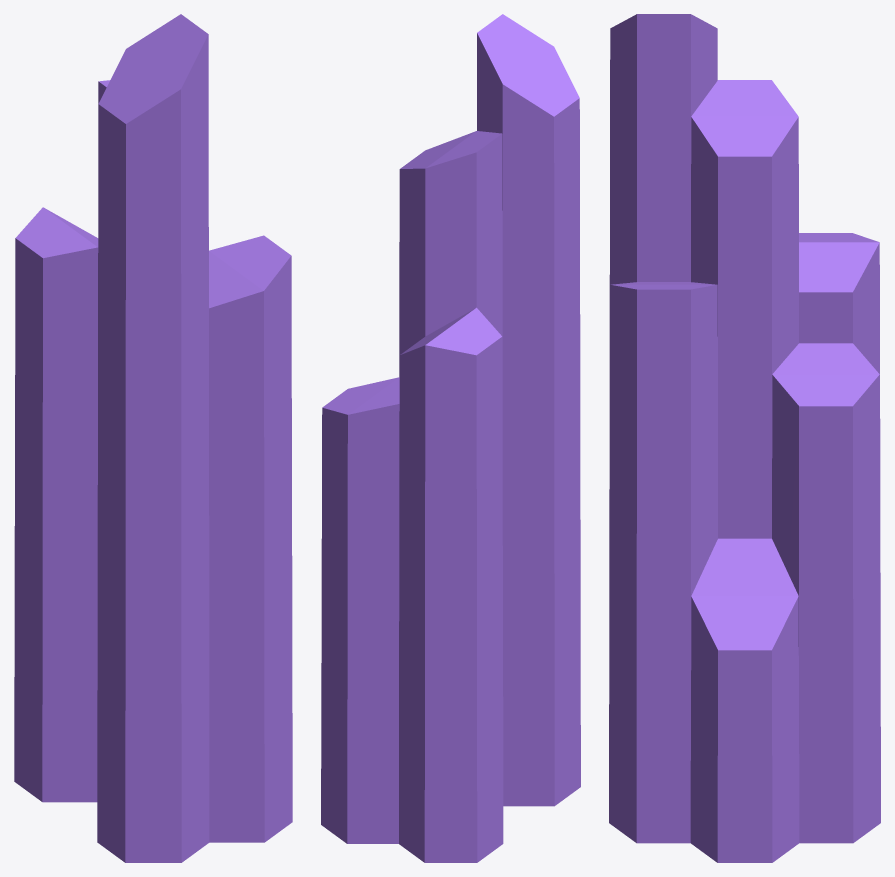
Rendered from resources_1.fbx.
3 views of the same model, side by side, from view 1: azimuth 30°, elevation 25°; view 2: azimuth 150°, elevation 25°; view 3: azimuth 270°, elevation 25° (orthographic). The views are drawn at different scales.
Visible parts, largest first — view 1: resources_1; view 2: resources_1; view 3: resources_1.
Boxes of the visible parts, bbox=[...] form: resources_1: bbox=[14, 14, 292, 862]; resources_1: bbox=[321, 14, 580, 862]; resources_1: bbox=[609, 14, 880, 862].
Size of the model in its own units: 43.48 by 161 by 50.21.
